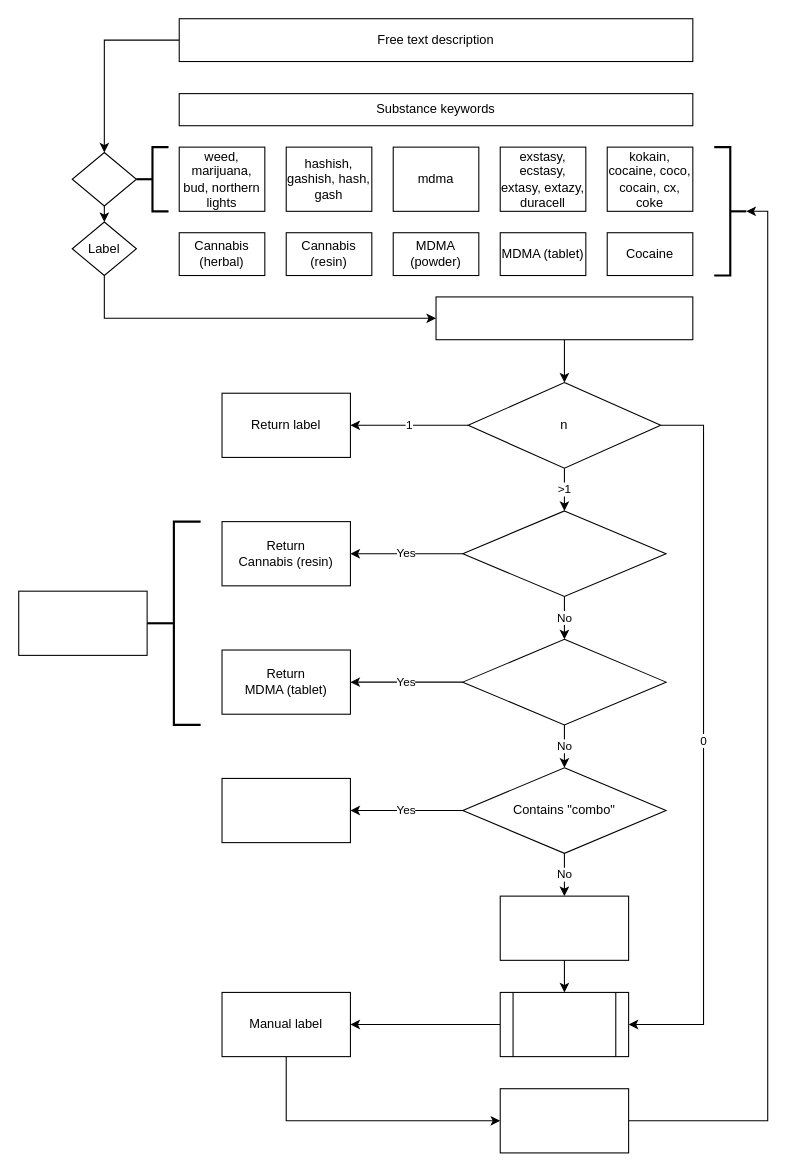
Some shapes in this 795 by 1172 pixel diagram are drawn without their labels. The centre of each missing label's shape, as x and y in pixels:
Cannabis (resin) AND Cannabis (herbal): pixel 564 553
Manual intervention: pixel 564 1024
Matches: pixel 103 178
MDMA (powder) AND MDMA (tablet): pixel 564 681
Return Combo: pixel 285 810
Return Uncatergorized: pixel 564 927
Set of labels length (n): pixel 564 318
Specification within substances: pixel 82 622
Update labels: pixel 564 1120
